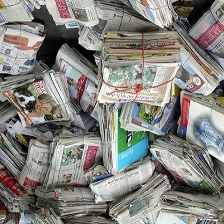news_paper: (93, 27, 179, 107), (158, 16, 224, 109), (73, 0, 176, 58), (148, 129, 224, 203), (51, 40, 110, 126), (0, 70, 82, 129), (42, 125, 106, 193), (97, 99, 150, 175), (173, 89, 223, 169), (117, 85, 181, 143), (107, 169, 174, 224), (81, 157, 159, 204), (183, 0, 224, 81), (29, 182, 114, 219), (0, 18, 49, 80), (15, 132, 58, 199), (156, 182, 223, 223), (40, 0, 104, 34), (118, 0, 179, 28), (0, 168, 33, 213), (0, 131, 26, 178), (0, 0, 43, 26), (20, 202, 70, 223)
